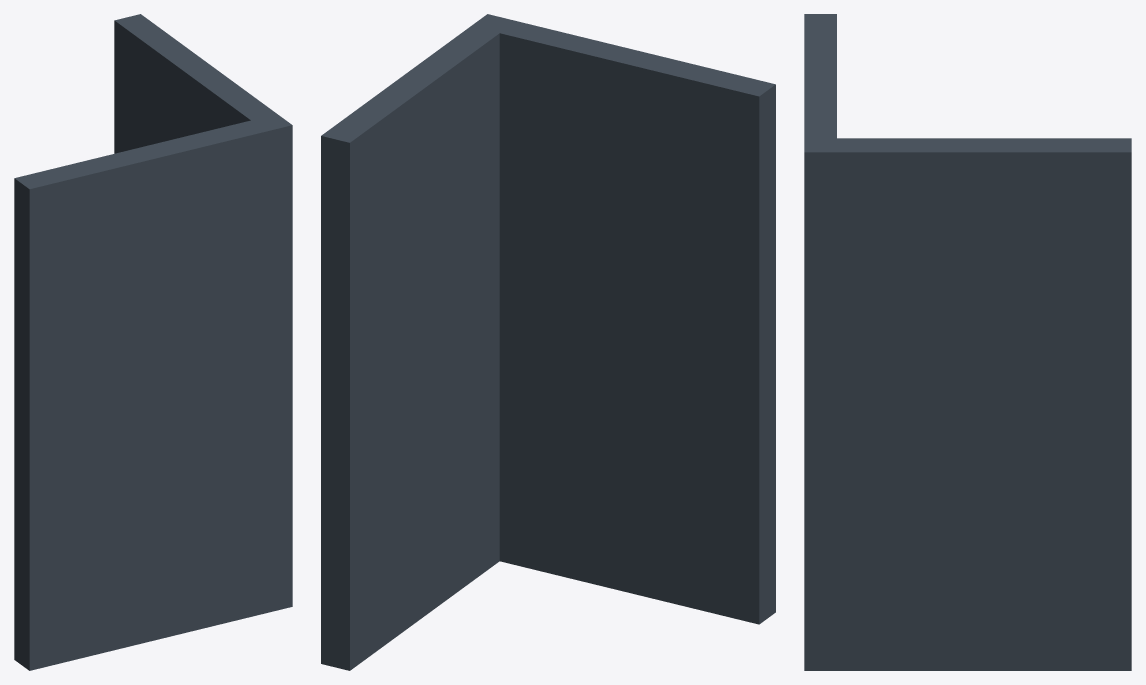
Rendered from np_kms_08_angle_exterieur.glb.
3 views of the same model, side by side, from view 1: azimuth 30°, elevation 25°; view 2: azimuth 150°, elevation 25°; view 3: azimuth 270°, elevation 25° (orthographic). The views are drawn at different scales.
Visible parts, largest first — view 1: MurX, MurZ; view 2: MurX, MurZ; view 3: MurZ, MurX.
Part boxes in pixels (box(x1,y1,x2,y2)): MurX: box(14, 114, 292, 670); MurZ: box(114, 14, 292, 609); MurX: box(471, 14, 775, 624); MurZ: box(321, 20, 510, 670); MurZ: box(804, 138, 1131, 670); MurX: box(804, 14, 836, 670).
Bounding box in the file's own units: 2 × 3.5 × 2.
